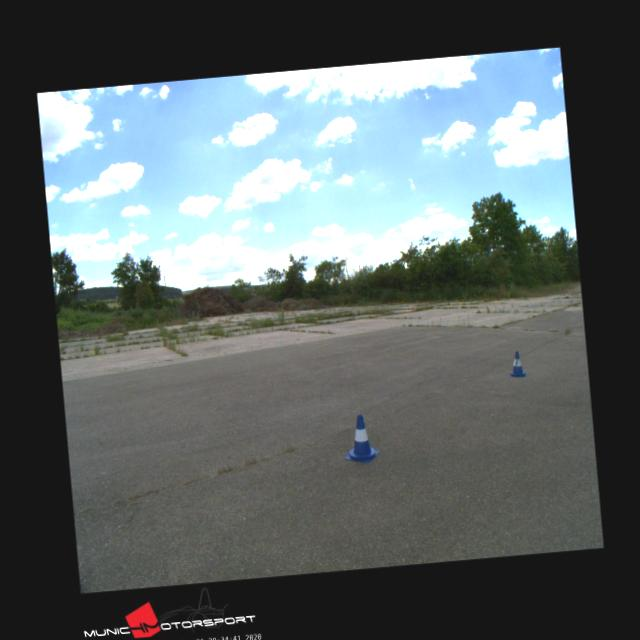blue_cone: (342, 412, 378, 462), (508, 351, 524, 376)
